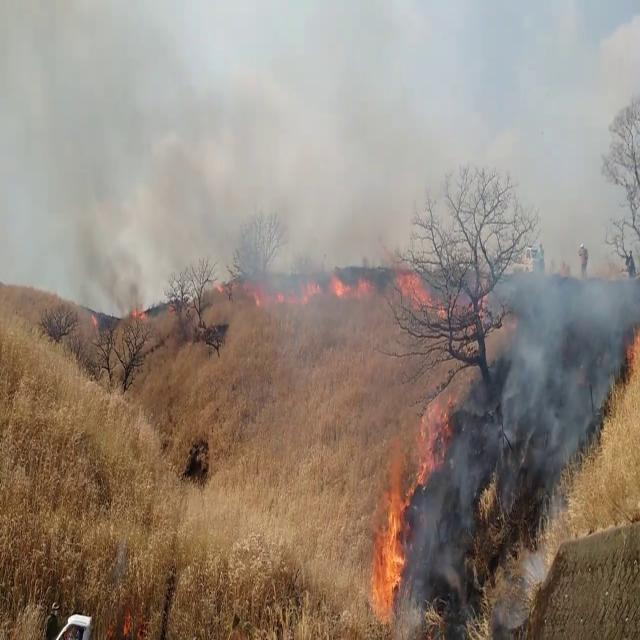Fire: (369, 386, 448, 628), (395, 260, 435, 313)
Smoke: (461, 162, 640, 480)
